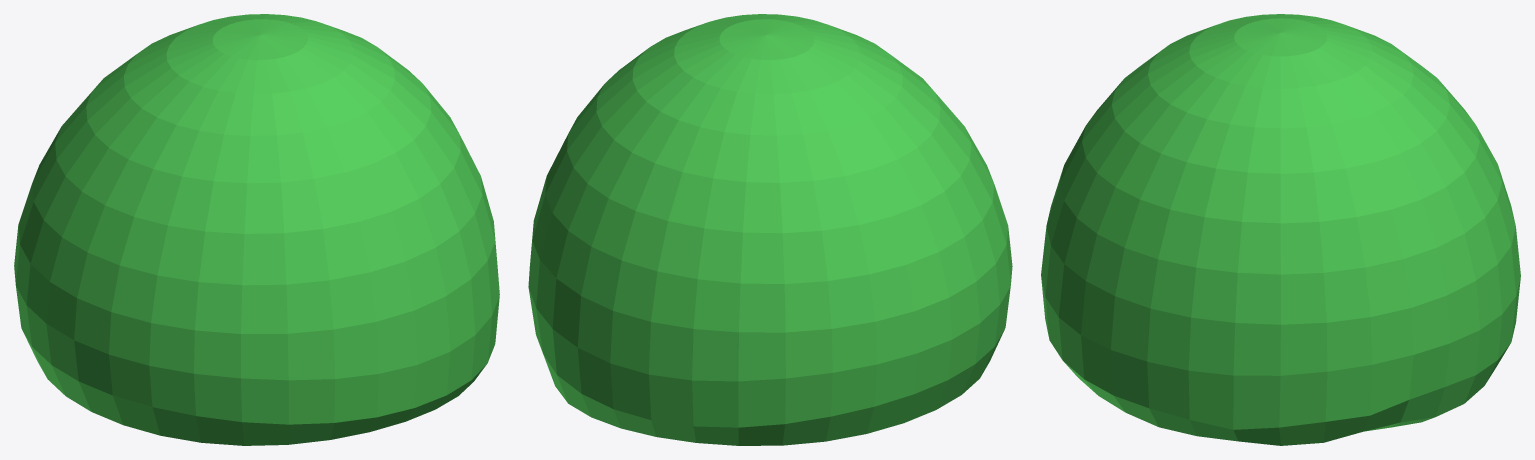
The model's file is Krzak2.glb.
The picture shows the model from 3 angles, left to right: view 1: azimuth 30°, elevation 25°; view 2: azimuth 150°, elevation 25°; view 3: azimuth 270°, elevation 25°; orthographic projection.
Visible parts, largest first — view 1: Sphere.001; view 2: Sphere.001; view 3: Sphere.001.
Boxes of the visible parts, bbox=[...] form: Sphere.001: bbox=[14, 14, 499, 445]; Sphere.001: bbox=[528, 14, 1012, 445]; Sphere.001: bbox=[1041, 14, 1520, 445].
Size of the model in its own units: 2.39 by 1.83 by 2.41.
Materials: 1 (1 with a texture image).
